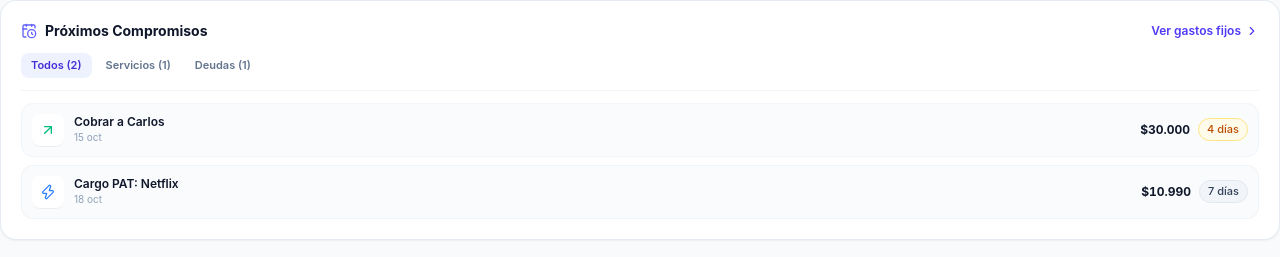
Test case: UpcomingDuesWidget Component › debe filtrar por pestaña de servicios al hacer clic
Check: the text "Cobrar a Carlos" is shown, box [74, 114, 165, 130]
Check: the text "Cargo PAT: Netflix" is shown, box [74, 176, 179, 192]
Filtrar por Servicios
Click the button "Servicios (1)": x=138, y=65 [96, 53, 181, 78]
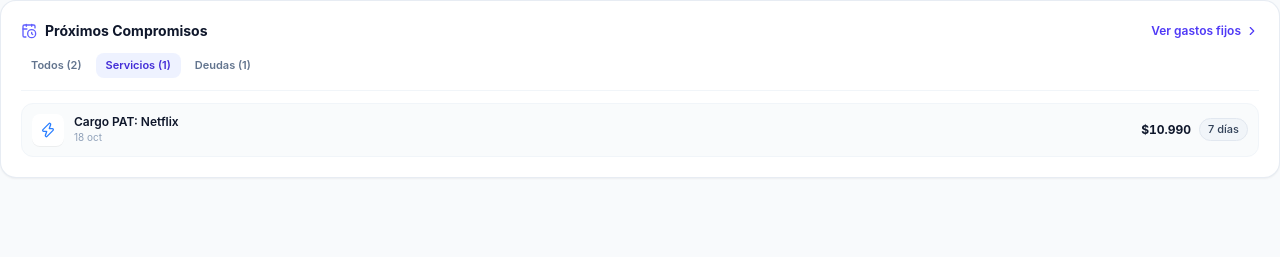
Check: the text "Cargo PAT: Netflix" is shown, box [74, 114, 179, 130]
Check: the link "Cobrar a Carlos" is gone
